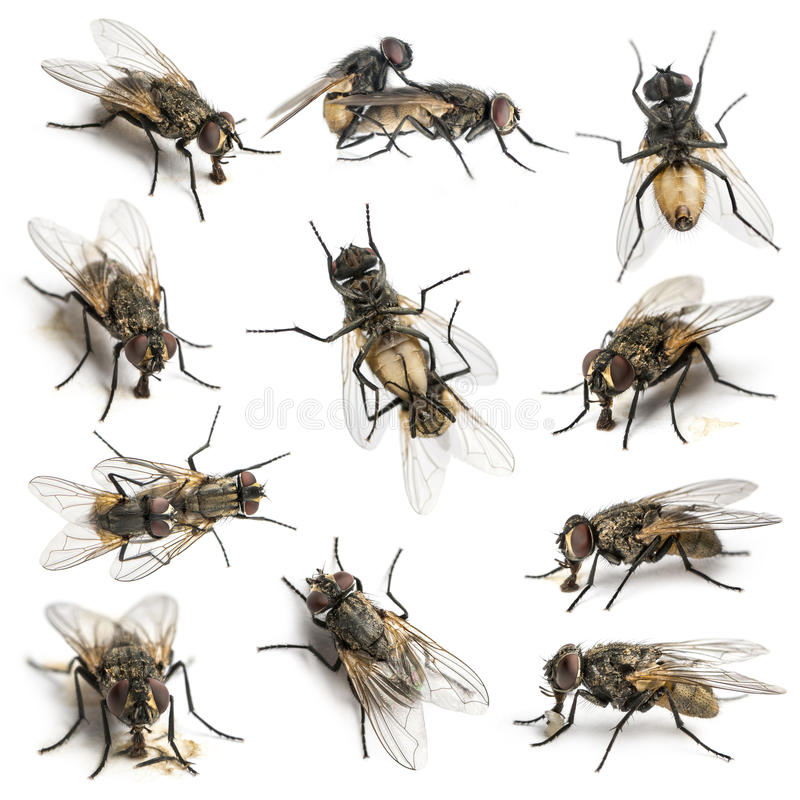house fly: (238, 196, 546, 519), (271, 508, 502, 794), (573, 32, 795, 290), (496, 604, 800, 789), (15, 582, 268, 800), (27, 12, 276, 229), (11, 190, 236, 428), (525, 267, 790, 456), (522, 474, 786, 623)
